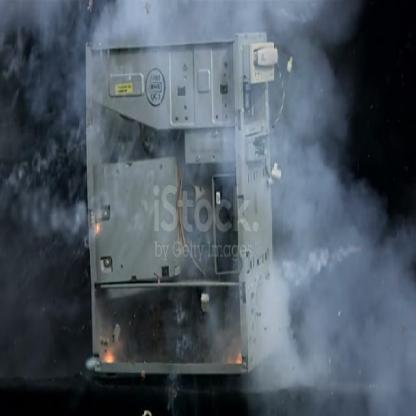fire: (100, 352, 116, 366)
smoke: (1, 5, 413, 413)
